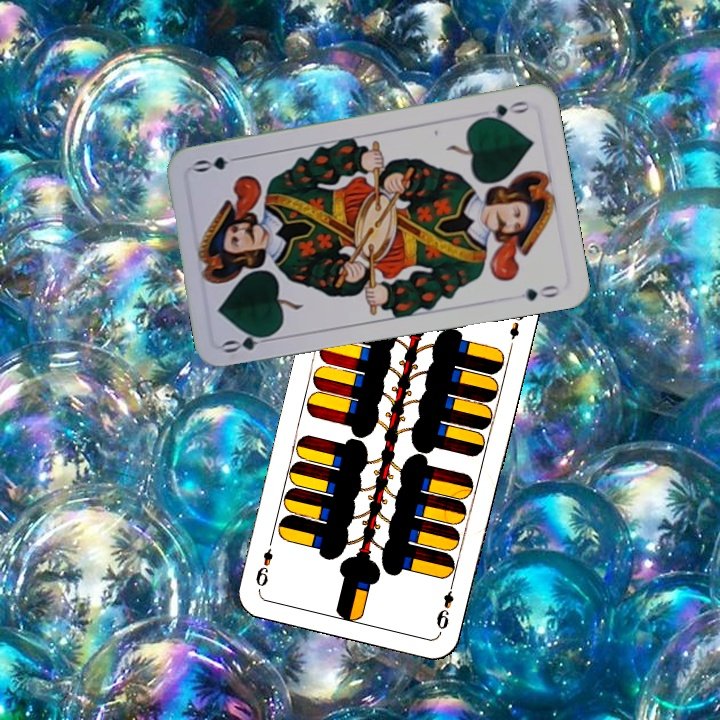E9: (432, 576, 457, 632)
GO: (219, 328, 278, 356), (475, 97, 532, 124)
